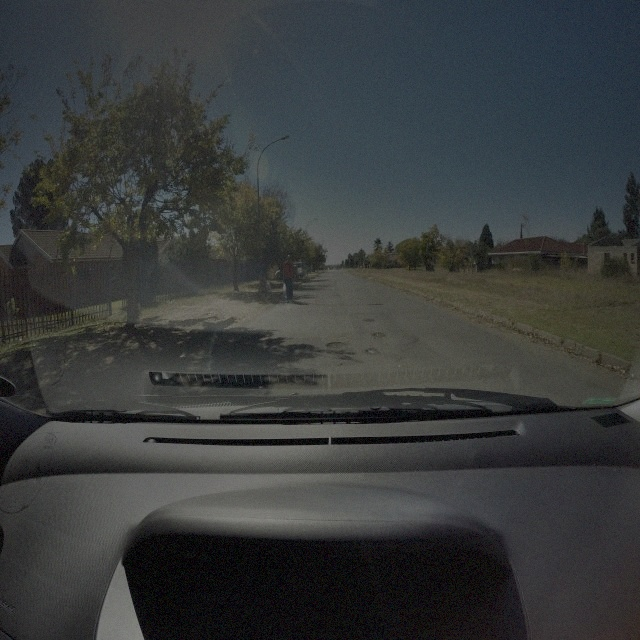pothole: (326, 339, 346, 353), (366, 348, 381, 357), (372, 331, 385, 339), (364, 317, 376, 322)
